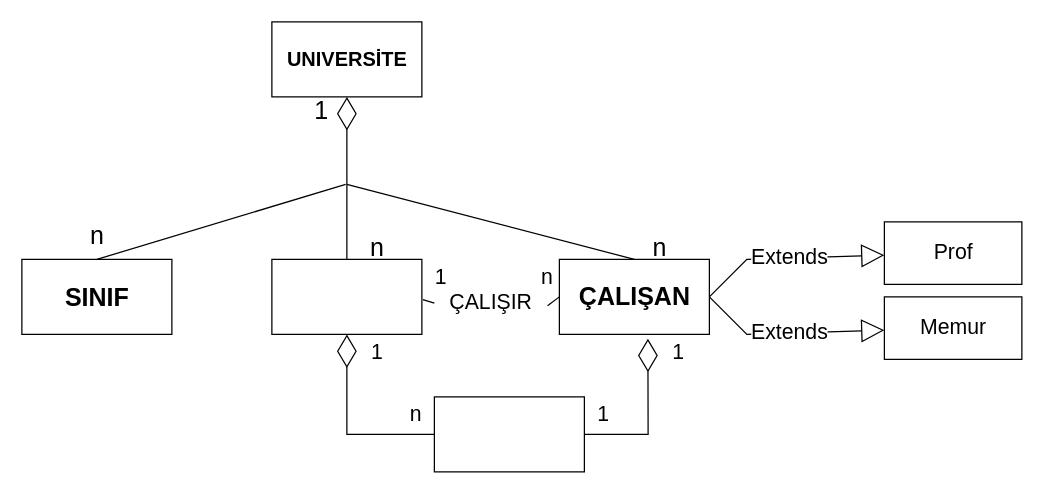
This 1044x494 diagram has some shape labels left out. Each missing label, with the centre of its shape:
"DEPARTMAN" goes at [346,296].
"OFİS" goes at [508,434].
